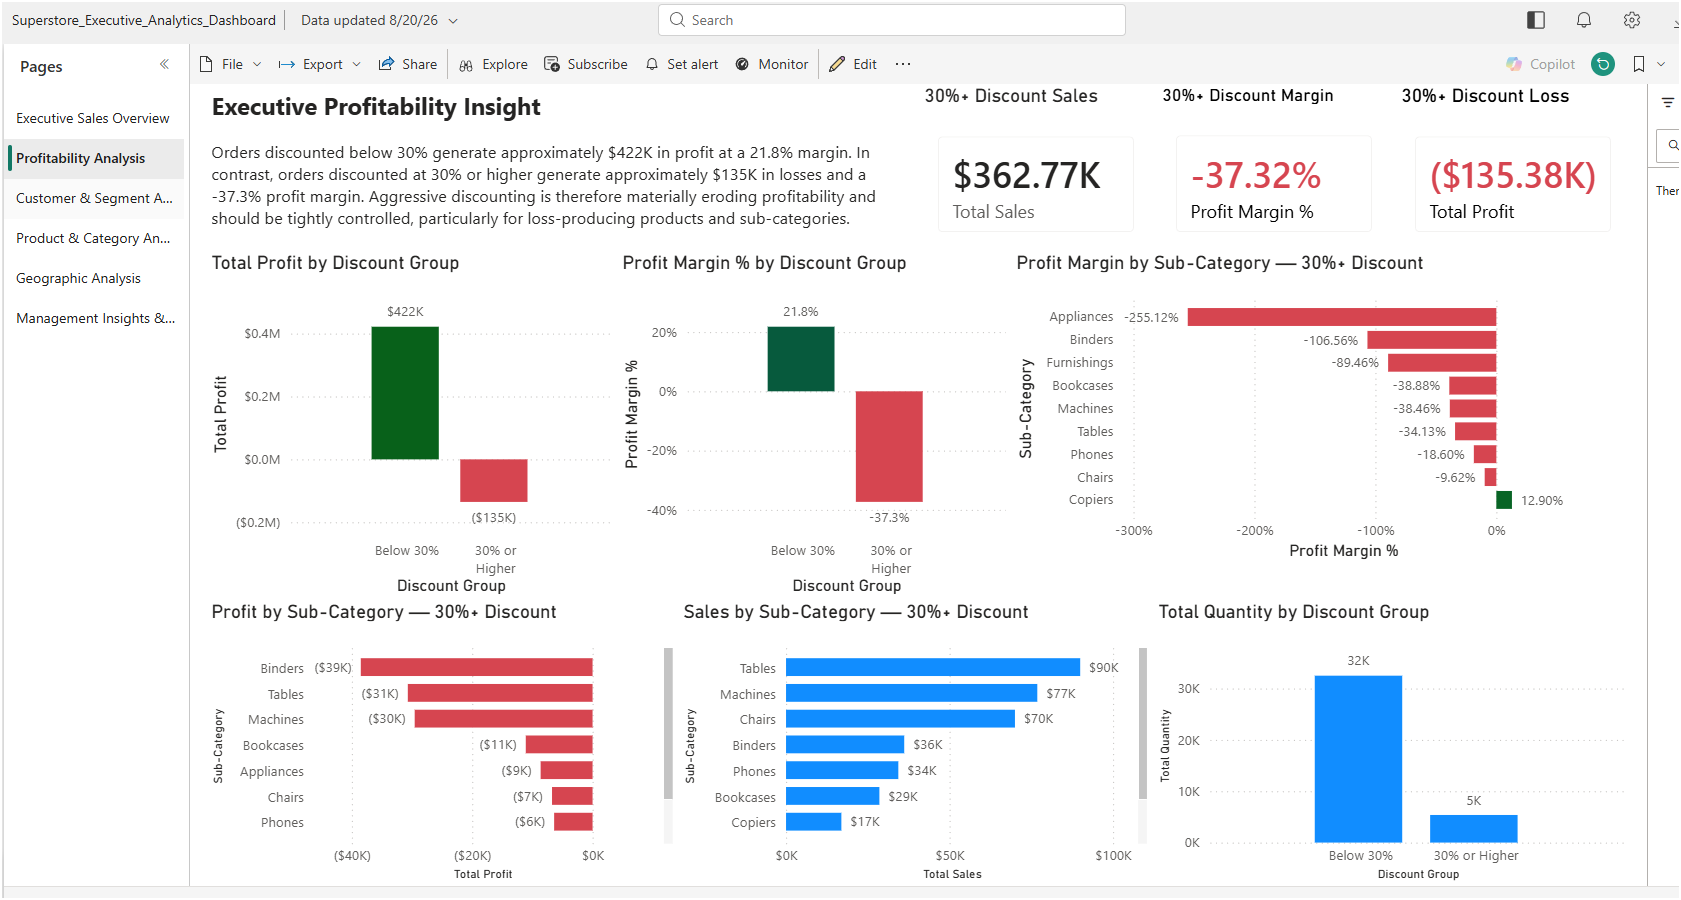

This screenshot's page, from the dashboard's own definition file:
{"tool":"powerbi","page":{"name":"Profitability Analysis","canvas":[1280,720],"ordinal":1},"visuals":[{"type":"clusteredColumnChart","fields":{"Category":["sample_superstore_clean.Discount Group"],"Y":["sample_superstore_clean.Total Profit"]},"box":[0,149.8,368.6,313.2],"z":0},{"type":"clusteredColumnChart","fields":{"Category":["sample_superstore_clean.Discount Group"],"Y":["sample_superstore_clean.Profit Margin %"]},"box":[368.6,149.8,354,313.2],"z":1000},{"type":"clusteredColumnChart","fields":{"Category":["sample_superstore_clean.Discount Group"],"Y":["sample_superstore_clean.Total Quantity"]},"box":[850.1,463,429.9,256.8],"z":2000},{"type":"textbox","box":[0,0,637,150],"z":3000},{"type":"clusteredBarChart","title":"Profit by Sub-Category — 30%+ Discount","fields":{"Category":["sample_superstore_clean.Sub-Category"],"Y":["sample_superstore_clean.Total Profit"]},"box":[0,463,424.1,256.8],"z":4000},{"type":"clusteredBarChart","title":"Sales by Sub-Category — 30%+ Discount","fields":{"Category":["sample_superstore_clean.Sub-Category"],"Y":["sample_superstore_clean.Total Sales"]},"box":[424.1,463,426,256.8],"z":5000},{"type":"clusteredBarChart","title":"Profit Margin by Sub-Category — 30%+ Discount","fields":{"Category":["sample_superstore_clean.Sub-Category"],"Y":["sample_superstore_clean.Profit Margin %"]},"box":[722.7,149.8,510.6,282.1],"z":6000},{"type":"cardVisual","title":"30%+ Discount Sales","fields":{"Data":["sample_superstore_clean.Total Sales"]},"box":[640,0,210,150],"z":7000},{"type":"cardVisual","title":"30%+ Discount Loss","fields":{"Data":["sample_superstore_clean.Total Profit"]},"box":[1068,0,210,150],"z":8000},{"type":"cardVisual","title":"30%+ Discount Margin","fields":{"Data":["sample_superstore_clean.Profit Margin %"]},"box":[854,0,210,150],"z":9000}]}

Visuals, with their boxes on the page's 1280x720 design canvas (x1, y1, x2, y2). These are canvas units, not pixel positions in the 1681x900 screenshot, which may show the page scaled, cropped or inside an application window:
clusteredColumnChart - sample_superstore_clean.Discount Group x sample_superstore_clean.Total Profit: locate(0, 150, 369, 463)
clusteredColumnChart - sample_superstore_clean.Discount Group x sample_superstore_clean.Profit Margin %: locate(369, 150, 723, 463)
clusteredColumnChart - sample_superstore_clean.Discount Group x sample_superstore_clean.Total Quantity: locate(850, 463, 1280, 720)
textbox: locate(0, 0, 637, 150)
"Profit by Sub-Category — 30%+ Discount" clusteredBarChart: locate(0, 463, 424, 720)
"Sales by Sub-Category — 30%+ Discount" clusteredBarChart: locate(424, 463, 850, 720)
"Profit Margin by Sub-Category — 30%+ Discount" clusteredBarChart: locate(723, 150, 1233, 432)
"30%+ Discount Sales" cardVisual: locate(640, 0, 850, 150)
"30%+ Discount Loss" cardVisual: locate(1068, 0, 1278, 150)
"30%+ Discount Margin" cardVisual: locate(854, 0, 1064, 150)
